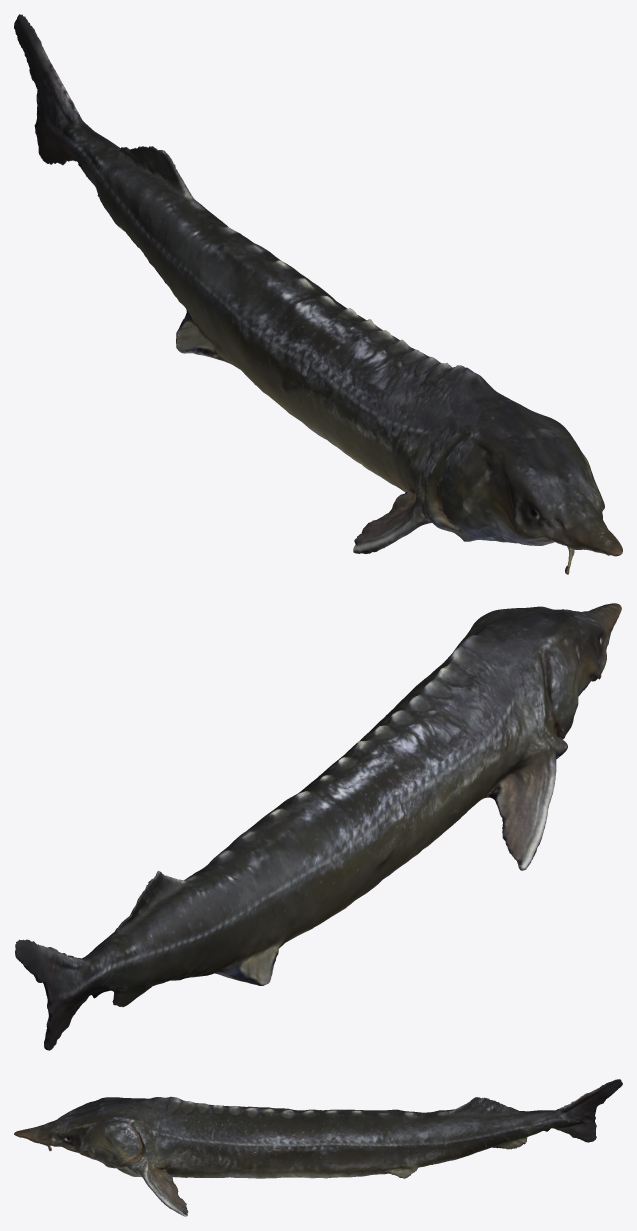
The model's file is Kaluga - the largest freshwater fish in the world.glb.
3 renders of one model, top to bottom at view 1: azimuth 30°, elevation 25°; view 2: azimuth 150°, elevation 25°; view 3: azimuth 270°, elevation 25°, orthographic. The views are drawn at different scales.
Visible parts, largest first — view 1: Huso; view 2: Huso; view 3: Huso.
Part boxes in pixels (x1,y1,x2,y2): Huso: [14, 14, 622, 574]; Huso: [15, 603, 621, 1050]; Huso: [14, 1079, 622, 1216].
Bounding box in the file's own units: 0.4553 × 0.4624 × 2.34.
Materials: 1 (1 with a texture image).
